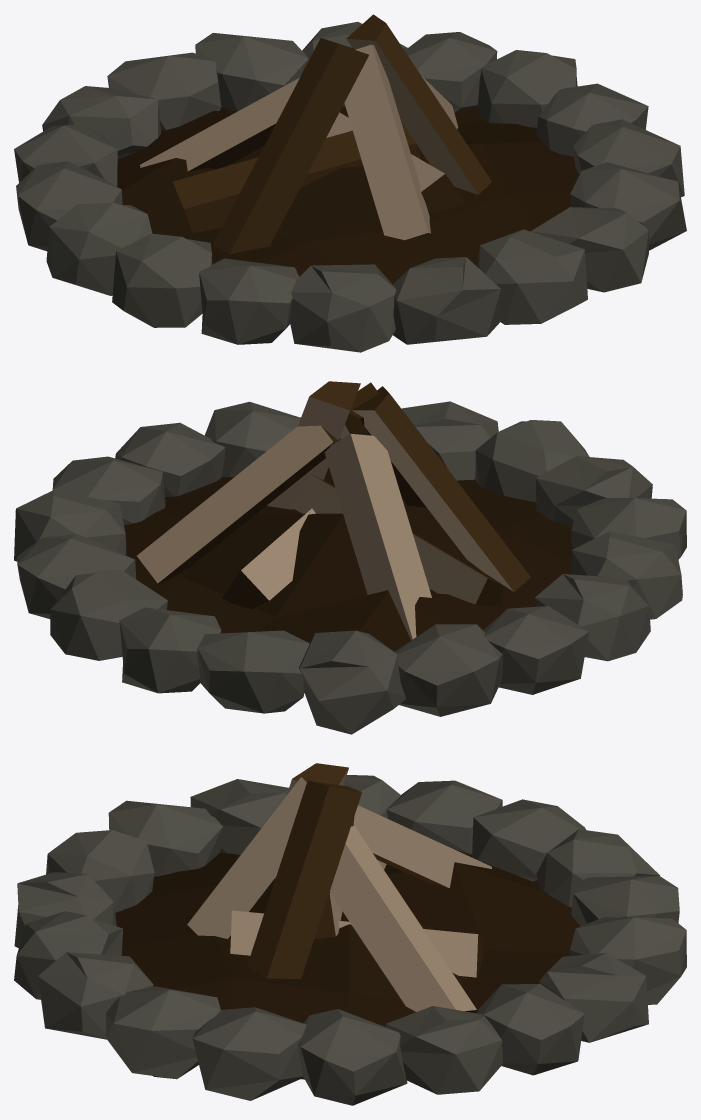
Rendered from campfire.FBX.
The picture shows the model from 3 angles, top to bottom: view 1: azimuth 30°, elevation 25°; view 2: azimuth 150°, elevation 25°; view 3: azimuth 270°, elevation 25°; orthographic projection.
Parts seen in each view (by area): view 1: campfire; view 2: campfire; view 3: campfire.
Boxes of the visible parts, left/top/right/bottom form: campfire: left=14, top=14, right=686, bottom=352; campfire: left=14, top=381, right=686, bottom=734; campfire: left=14, top=763, right=686, bottom=1105.
Bounding box in the file's own units: 33.2 × 11.03 × 32.76.
